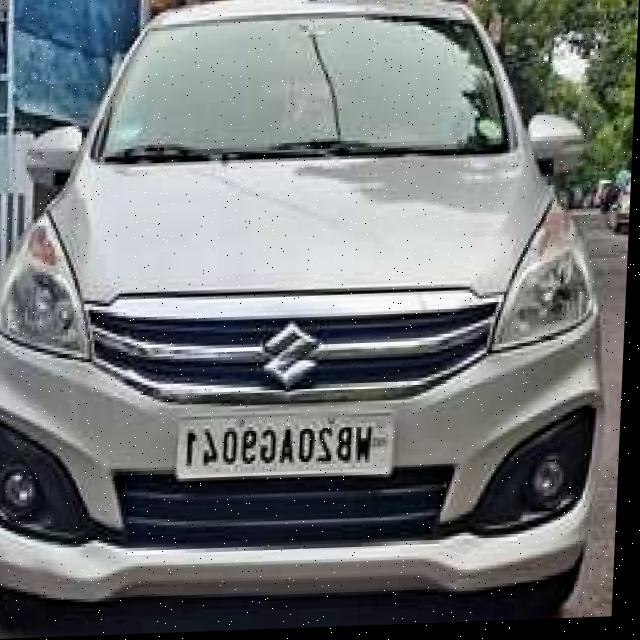plate: (179, 413, 401, 484)
